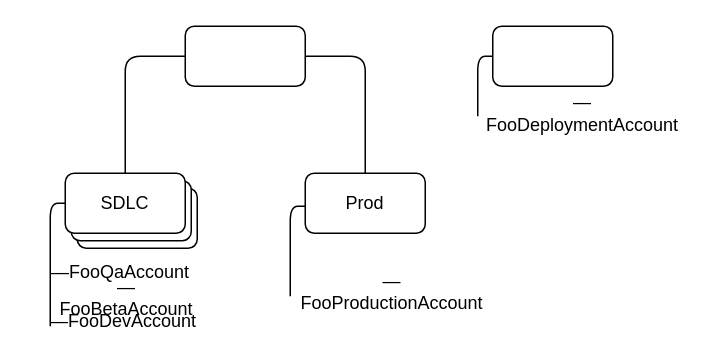
Some shapes in this 704 by 359 pixel diagram are drawn without their labels. Here are the shapes that lost their labels. From the top down, the box of each, then its label:
(184, 25, 305, 86): Workloads
(491, 25, 613, 86): Deployments
